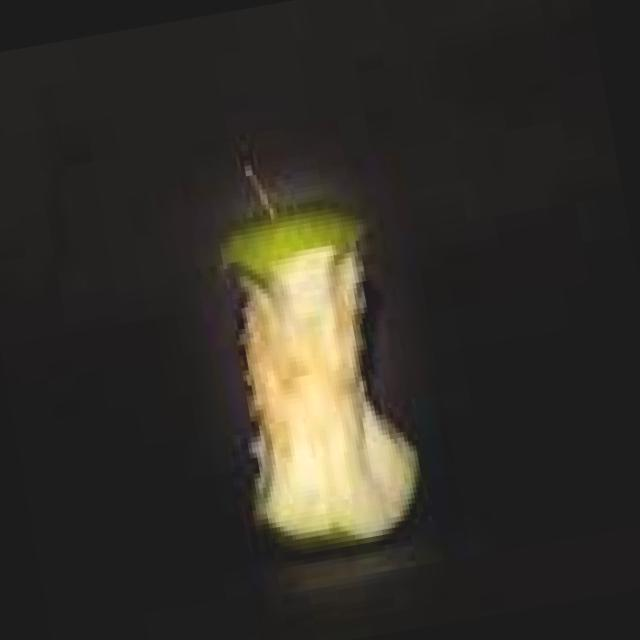Used Apple: (208, 210, 423, 557)
